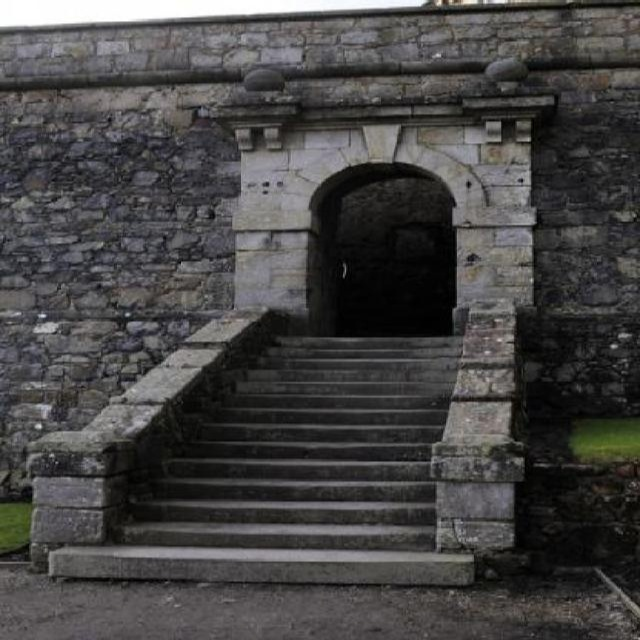stair: (65, 290, 529, 601)
